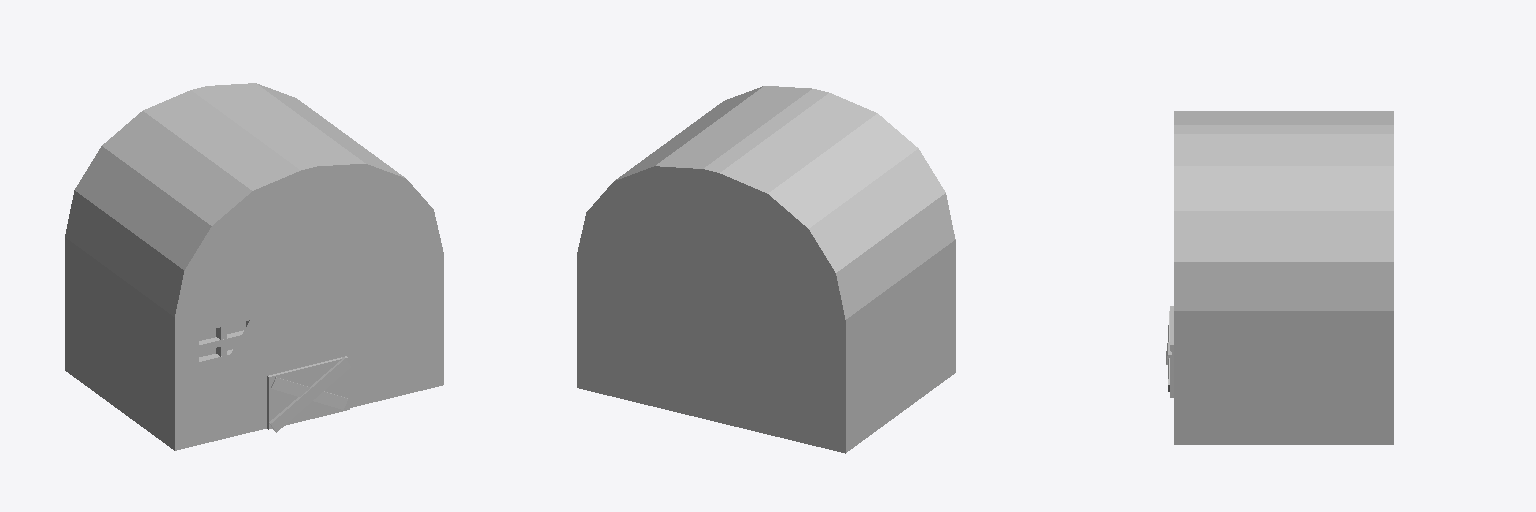
The model's file is House1.obj.
The picture shows the model from 3 angles: view 1: azimuth 30°, elevation 25°; view 2: azimuth 150°, elevation 25°; view 3: azimuth 270°, elevation 25°; orthographic projection.
Parts seen in each view (by area): view 1: Cube; view 2: Cube; view 3: Cube.
Boxes of the visible parts, <box> form: Cube: <box>65,83,443,450</box>; Cube: <box>577,86,955,453</box>; Cube: <box>1166,111,1393,444</box>.
Size of the model in its own units: 1.21 by 1.09 by 0.8878.